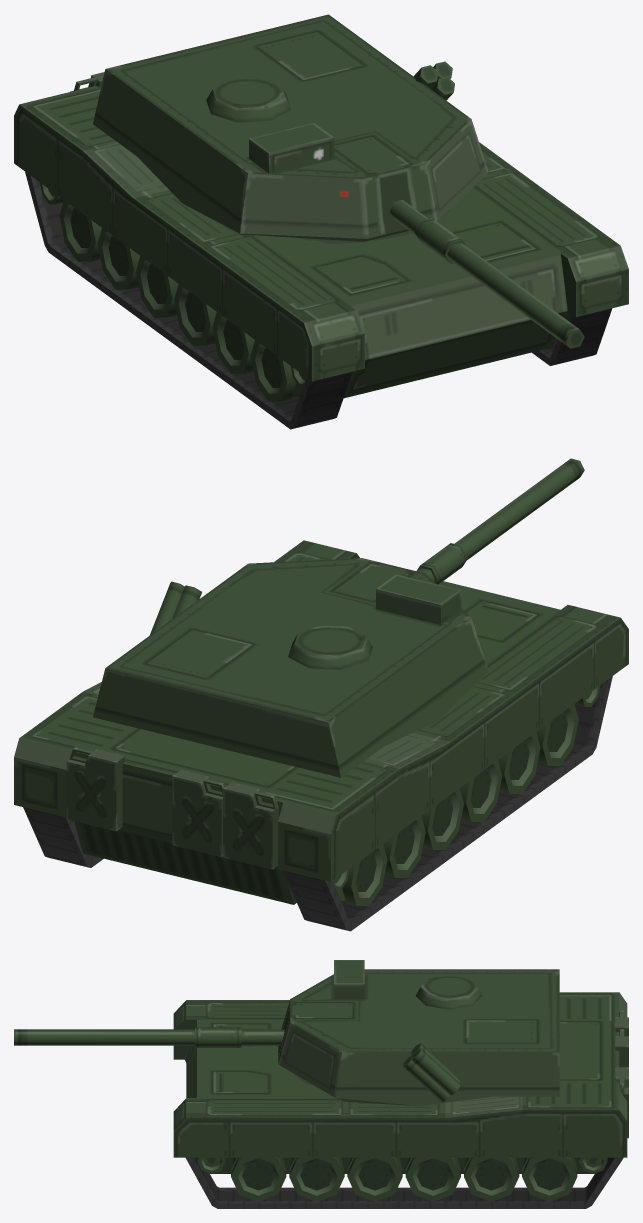
Rendered from M1Abrams_001.FBX.
3 views of the same model, one above another, from view 1: azimuth 30°, elevation 25°; view 2: azimuth 150°, elevation 25°; view 3: azimuth 270°, elevation 25° (orthographic). The views are drawn at different scales.
Visible parts, largest first — view 1: M1Abrams_001, M1Abrams_001_Cannon; view 2: M1Abrams_001, M1Abrams_001_Cannon; view 3: M1Abrams_001, M1Abrams_001_Cannon.
Boxes of the visible parts, bbox=[...] form: M1Abrams_001: bbox=[14, 72, 628, 429]; M1Abrams_001_Cannon: bbox=[93, 14, 584, 348]; M1Abrams_001: bbox=[14, 540, 628, 931]; M1Abrams_001_Cannon: bbox=[93, 458, 584, 777]; M1Abrams_001: bbox=[173, 992, 628, 1208]; M1Abrams_001_Cannon: bbox=[14, 960, 559, 1105].
Size of the model in its own units: 350 by 773 by 218.
